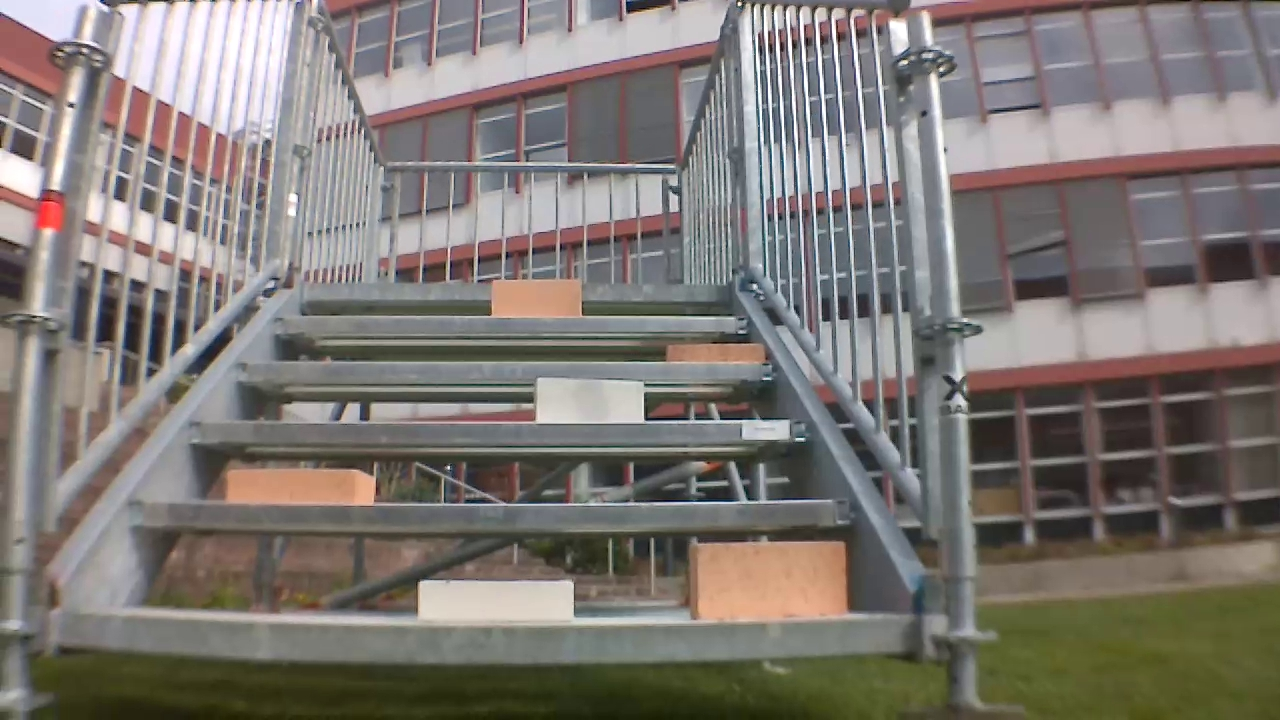brick: (689, 542, 845, 617), (418, 582, 574, 619), (228, 469, 375, 504), (535, 378, 644, 421), (491, 281, 580, 316), (666, 344, 763, 361)
edge: (61, 612, 915, 662), (132, 501, 855, 530), (191, 421, 809, 445), (237, 361, 774, 381), (273, 316, 750, 332), (303, 284, 726, 300)
stairs: (8, 5, 1005, 713)
steps: (51, 275, 922, 671)
